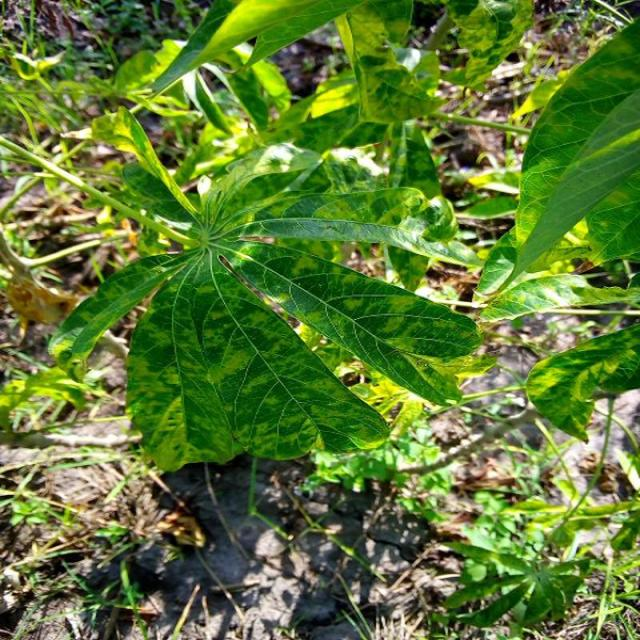cassava leaf: (48, 102, 489, 474), (124, 248, 391, 474), (512, 17, 638, 283)
